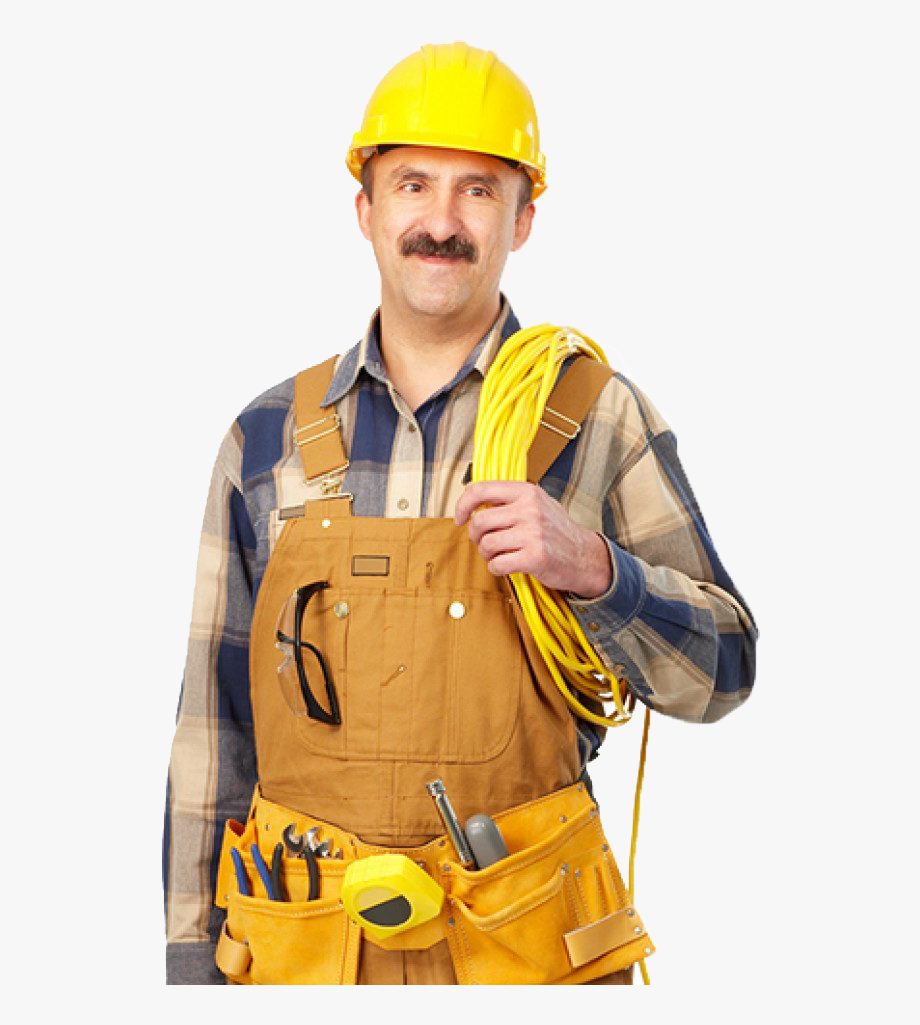hard hat: (342, 40, 542, 177)
